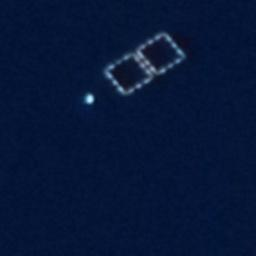square_solid: (132, 27, 193, 81), (101, 47, 161, 99)
